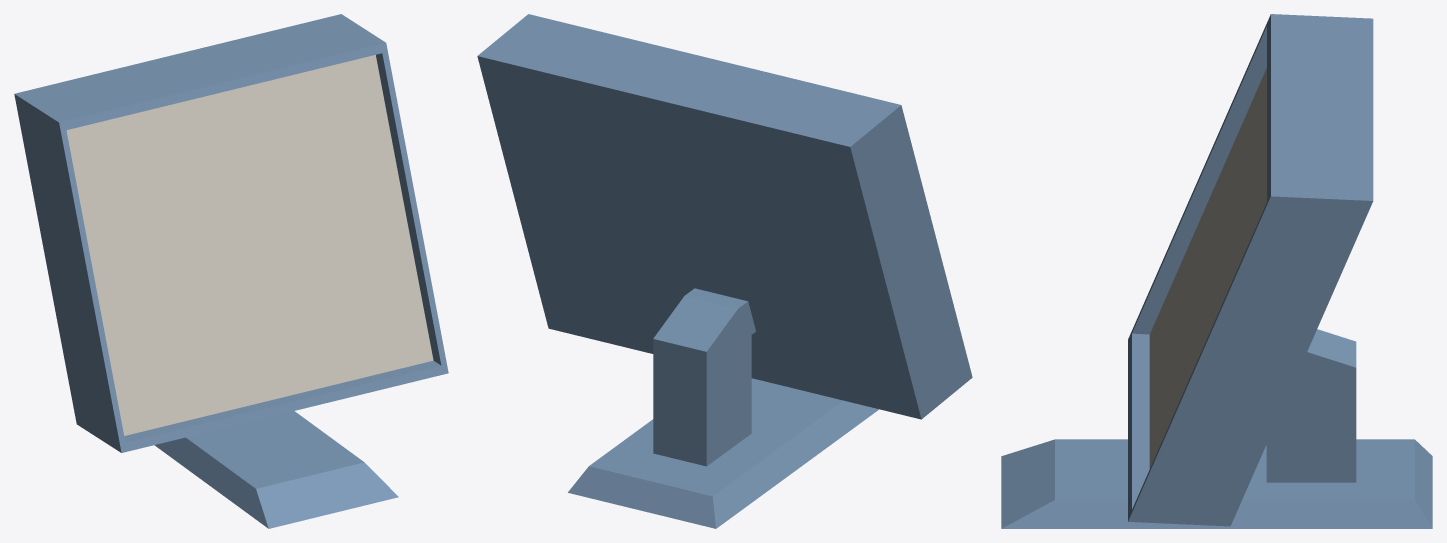
The model's file is computer-screen.glb.
The picture shows the model from 3 angles, left to right: view 1: azimuth 30°, elevation 25°; view 2: azimuth 150°, elevation 25°; view 3: azimuth 270°, elevation 25°; orthographic projection. The views are drawn at different scales.
Size of the model in its own units: 1 by 1 by 1.
